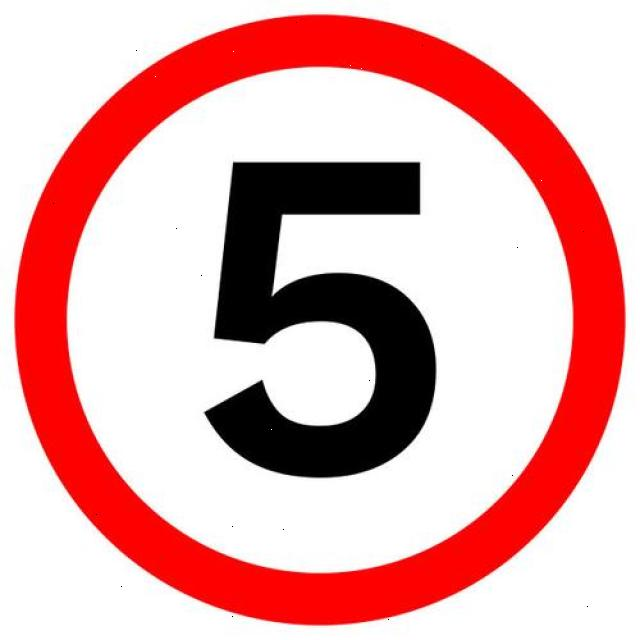speed limit 10: (10, 12, 627, 626)
